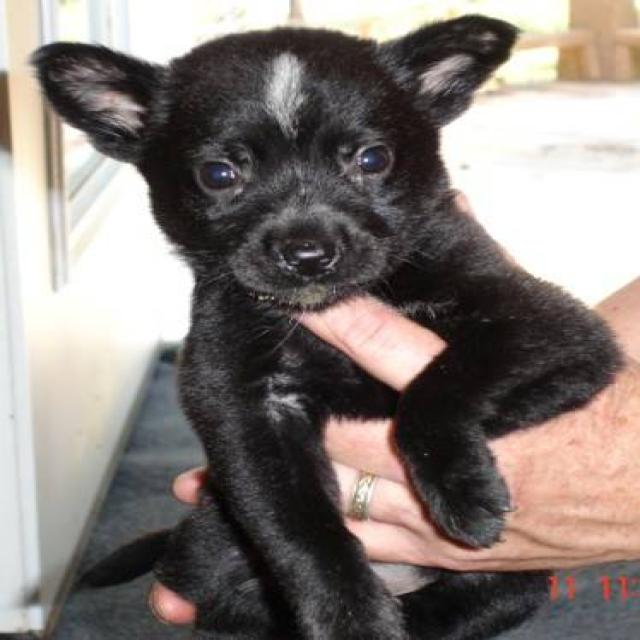dog: (26, 11, 628, 638)
